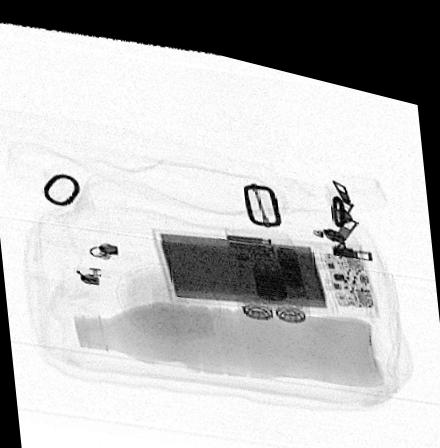Powerbank: (151, 220, 379, 298)
